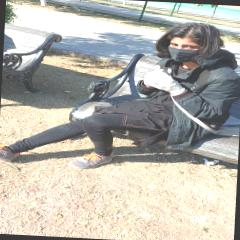gloved: (145, 72, 184, 92)
